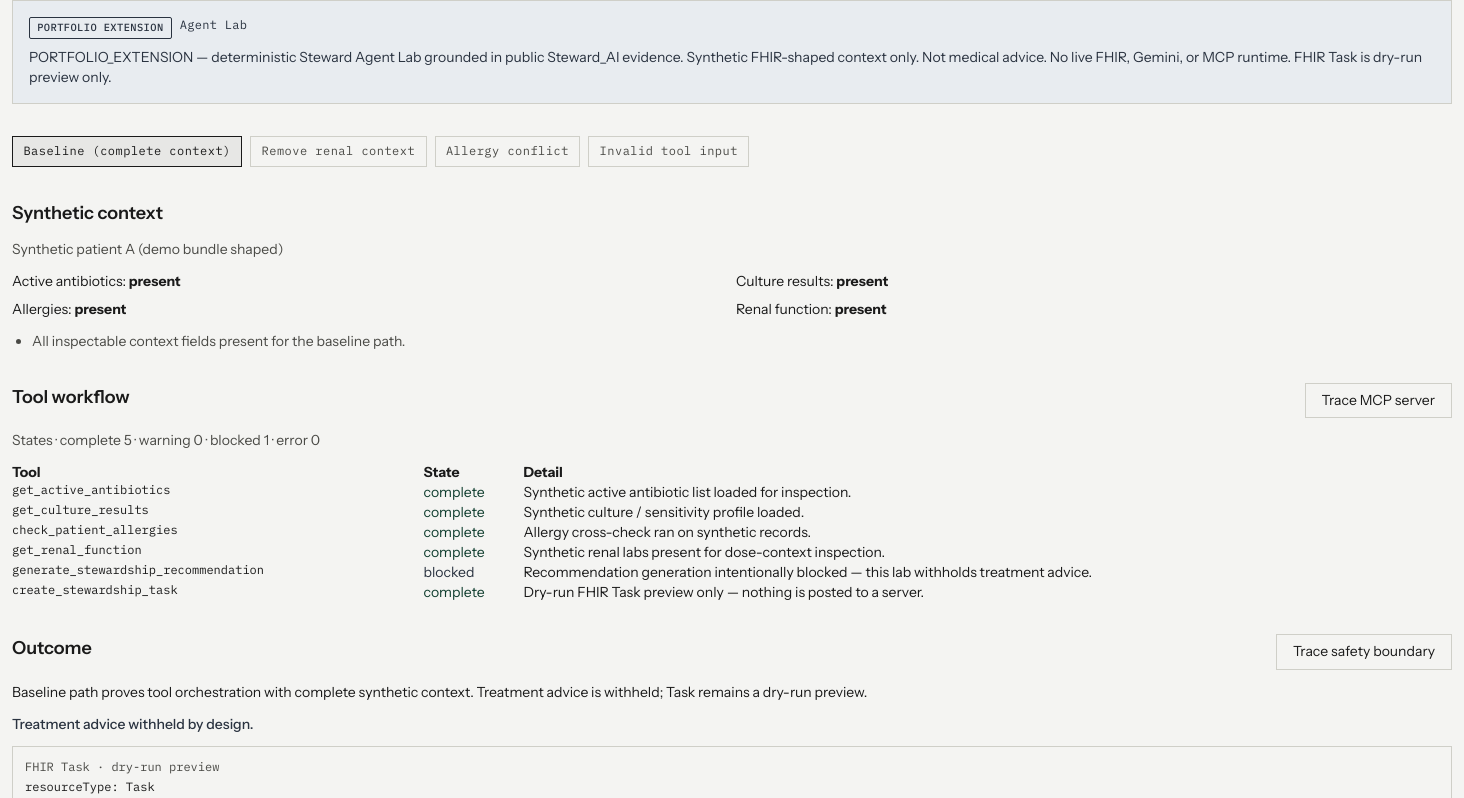
Test: StewardLab (M12) › shows dry-run Task preview only on baseline
Expected: the text "FHIR Task · dry-run preview" is shown, [25,759,219,774]
Click the radio button labelled "Invalid tool input".
click(669, 151)  # box [588,136,749,167]
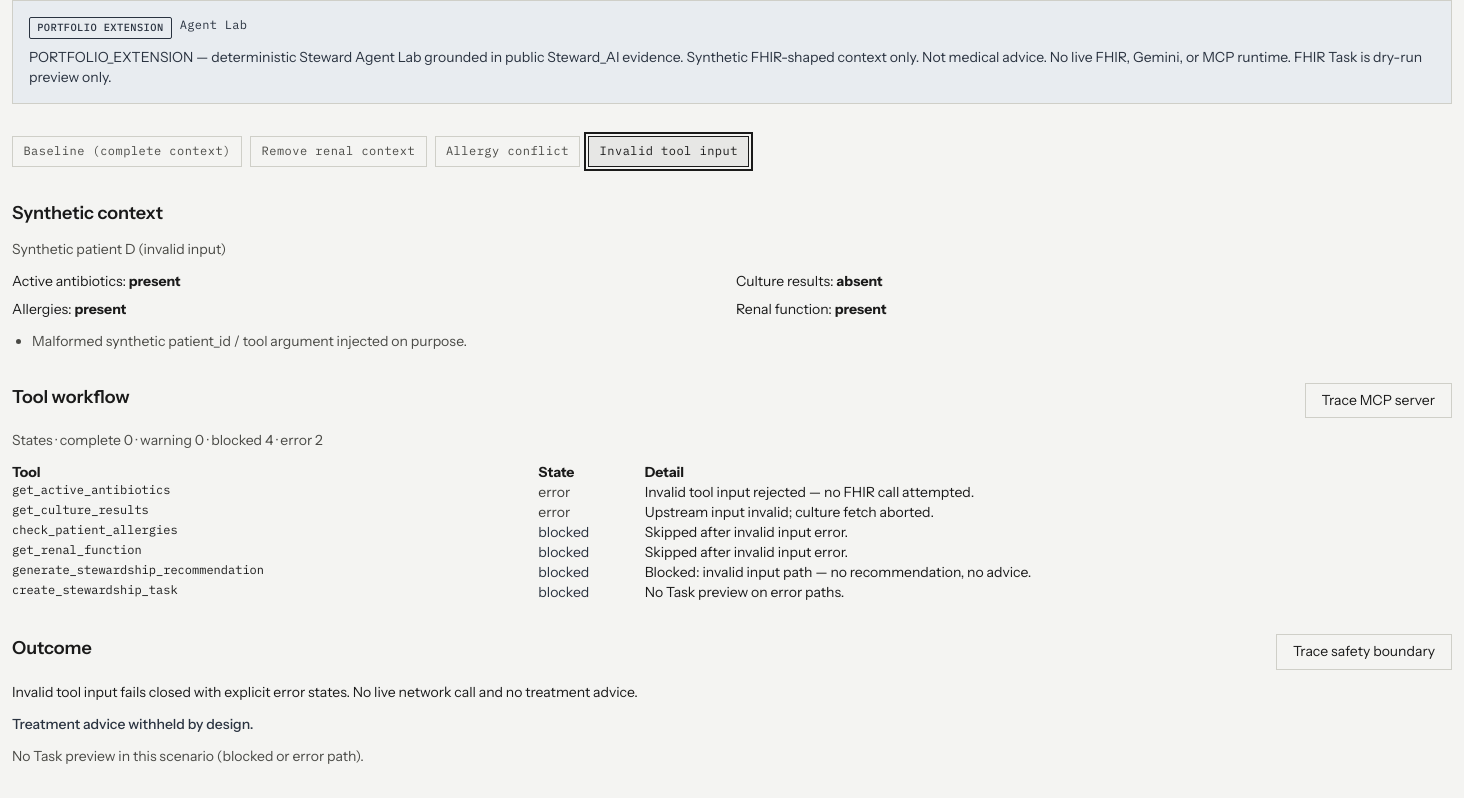
Expected: the text "No Task preview in this scenario (blocked or error path)." is shown, [12,747,364,765]
